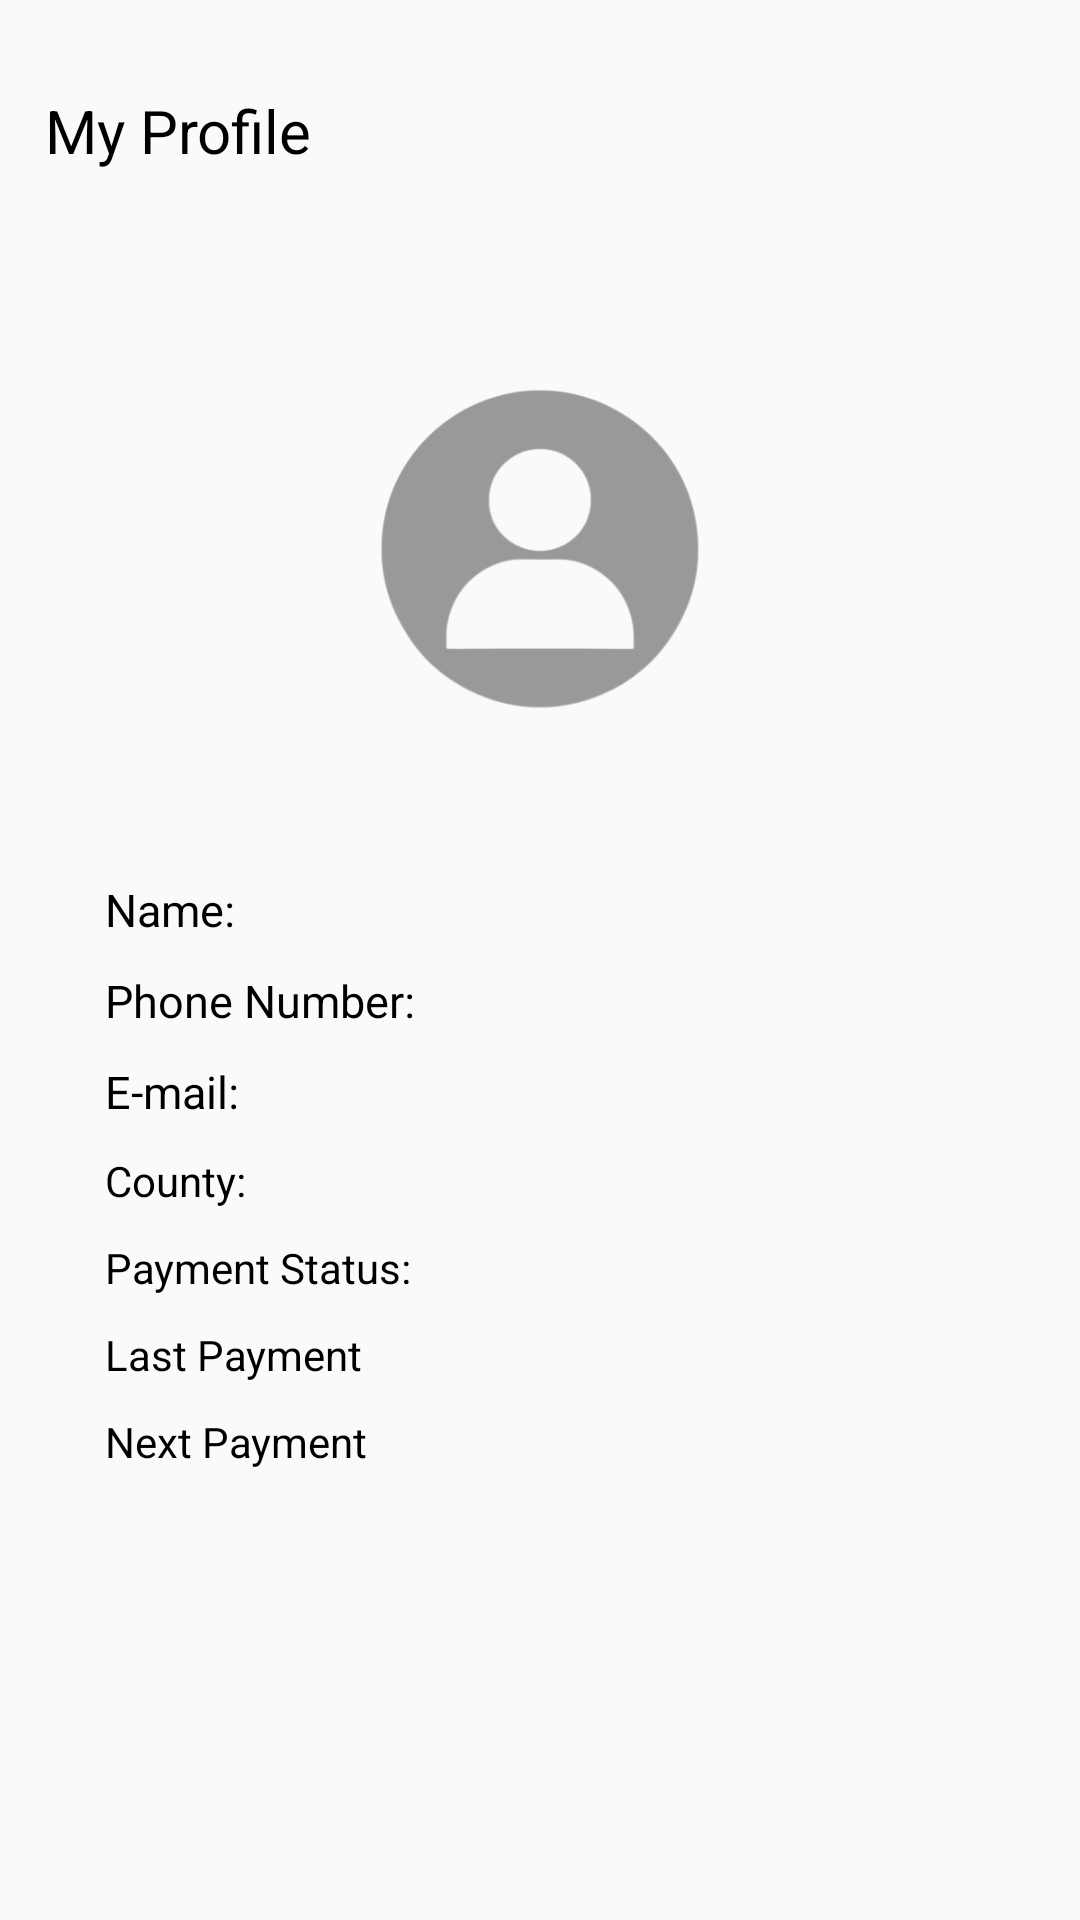

Icons on this 1080×1920 Android screen, each with the point to tap as (x,y):
sprofile: (540,549)
